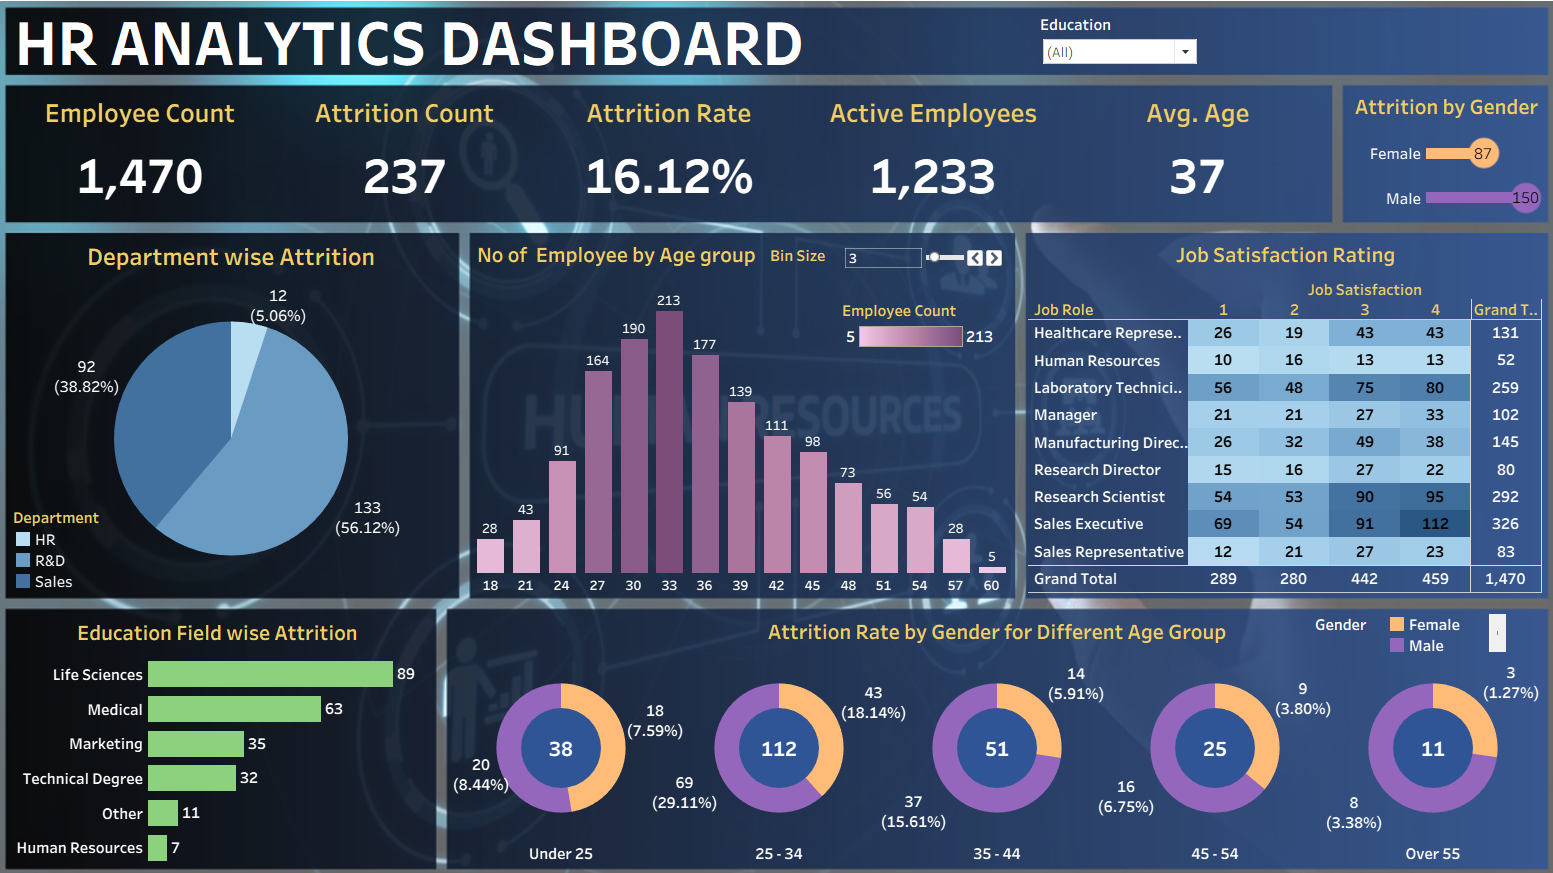

This screenshot's page, from the dashboard's own definition file:
{"tool":"tableau","page":{"name":"HR ANALYTICS DASHBOARD","canvas":[1580,900],"ordinal":0},"visuals":[{"type":"image","param":"C:/Users/abhid/Downloads/HR background.pptx.png","box":[8,8,1564,884]},{"type":"text","box":[24,21,839,61]},{"type":"filter","title":"Department wise Attrition","param":"[federated.1er6myw0m784kg1d0tfff1wdn7uw].[none:Education:nk]","box":[1053,25,160,55]},{"type":"worksheet","title":"Attrition by Gender","mark":"Automatic","rows":["Gender"],"cols":["Calculation_2834453048300568576","Calculation_2834453048300568576"],"box":[1359,99,201,132]},{"type":"worksheet","title":"KPI","mark":"Automatic","box":[21,100,1322,129]},{"type":"worksheet","title":"Department wise Attrition","mark":"Pie","box":[21,247,446,358]},{"type":"worksheet","title":"No of  Employee by Age group","mark":"Automatic","rows":["Employee Count"],"cols":["Age (bin)"],"box":[486,247,537,359]},{"type":"worksheet","title":"Job Satisfaction Rating","mark":"Square","rows":["Job Role"],"cols":["Job Satisfaction"],"box":[1041,247,515,357]},{"type":"parameter","param":"[Parameters].[Parameter 1]","box":[783,256,235,36]},{"type":"legend","title":"No of  Employee by Age group","param":"[federated.1er6myw0m784kg1d0tfff1wdn7uw].[sum:Employee Count:qk]","box":[855,311,156,57]},{"type":"legend","title":"Department wise Attrition","param":"[federated.1er6myw0m784kg1d0tfff1wdn7uw].[none:Department:nk]","box":[26,518,127,85]},{"type":"worksheet","title":"Attrition Rate by Gender for Different Age Group","mark":"Pie","rows":["Calculation_2834453048499765252","Calculation_2834453048499765252"],"cols":["CF_age band"],"box":[465,624,1090,253]},{"type":"worksheet","title":"Education Field wise Attrition ","mark":"Automatic","rows":["Education Field"],"cols":["Calculation_2834453048300568576"],"box":[21,625,423,251]},{"type":"legend","title":"Attrition Rate by Gender for Different Age Group","param":"[federated.1er6myw0m784kg1d0tfff1wdn7uw].[none:Gender:nk]","box":[1328,625,193,38]}]}

Visuals, with their boxes in screenshot pixels (x1, y1, x2, y2), scaled from the page's 1580x900 canvas onto the 1553x873 screenshot:
image: box(8, 8, 1545, 865)
text: box(24, 20, 848, 80)
"Department wise Attrition" filter: box(1035, 24, 1192, 78)
"Attrition by Gender" worksheet: box(1336, 96, 1533, 224)
"KPI" worksheet: box(21, 97, 1320, 222)
"Department wise Attrition" worksheet (Pie marks): box(21, 240, 459, 587)
"No of  Employee by Age group" worksheet: box(478, 240, 1006, 588)
"Job Satisfaction Rating" worksheet (Square marks): box(1023, 240, 1529, 586)
parameter: box(770, 248, 1001, 283)
"No of  Employee by Age group" legend: box(840, 302, 994, 357)
"Department wise Attrition" legend: box(26, 502, 150, 585)
"Attrition Rate by Gender for Different Age Group" worksheet (Pie marks): box(457, 605, 1528, 851)
"Education Field wise Attrition " worksheet: box(21, 606, 436, 850)
"Attrition Rate by Gender for Different Age Group" legend: box(1305, 606, 1495, 643)
